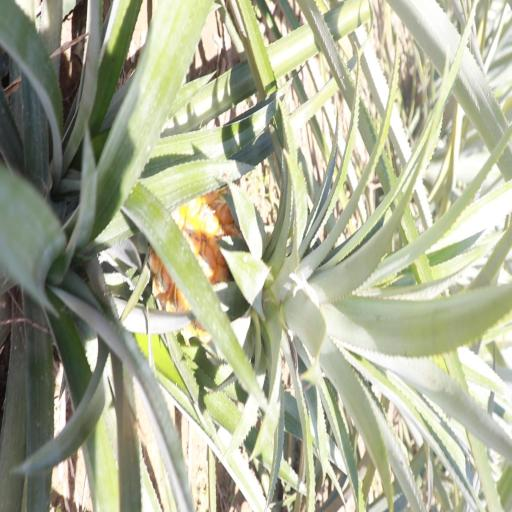Pineapple - v8 v1: (154, 187, 368, 370)
